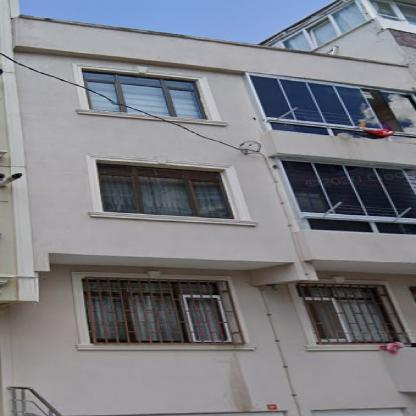window: (249, 75, 416, 143), (280, 161, 415, 233), (83, 279, 231, 341), (99, 170, 231, 217), (83, 72, 205, 119), (298, 288, 393, 340), (270, 1, 368, 51), (370, 0, 415, 25)
